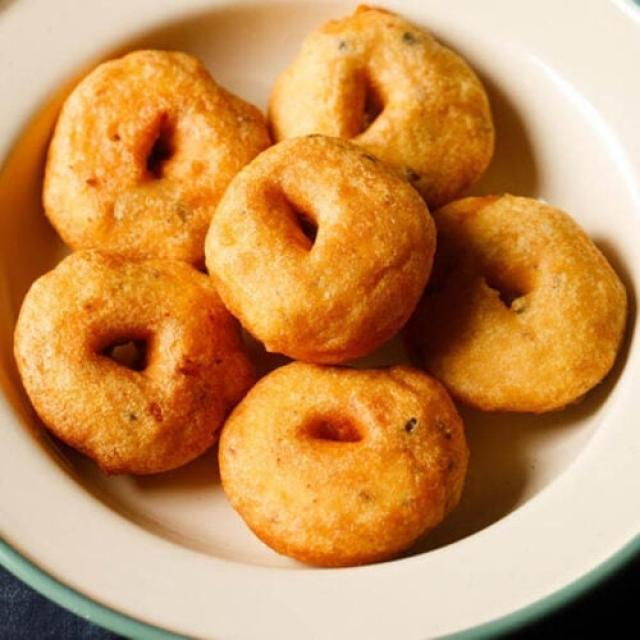MEDU VADA: (14, 243, 250, 481), (200, 136, 435, 369), (216, 355, 478, 560), (47, 45, 266, 262), (408, 195, 628, 411), (272, 8, 495, 214)
